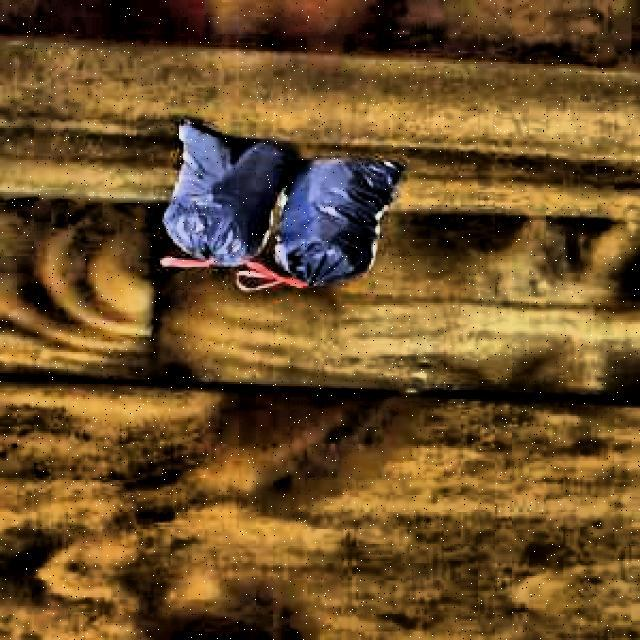Trashbag: (160, 132, 284, 269), (274, 162, 392, 287)
